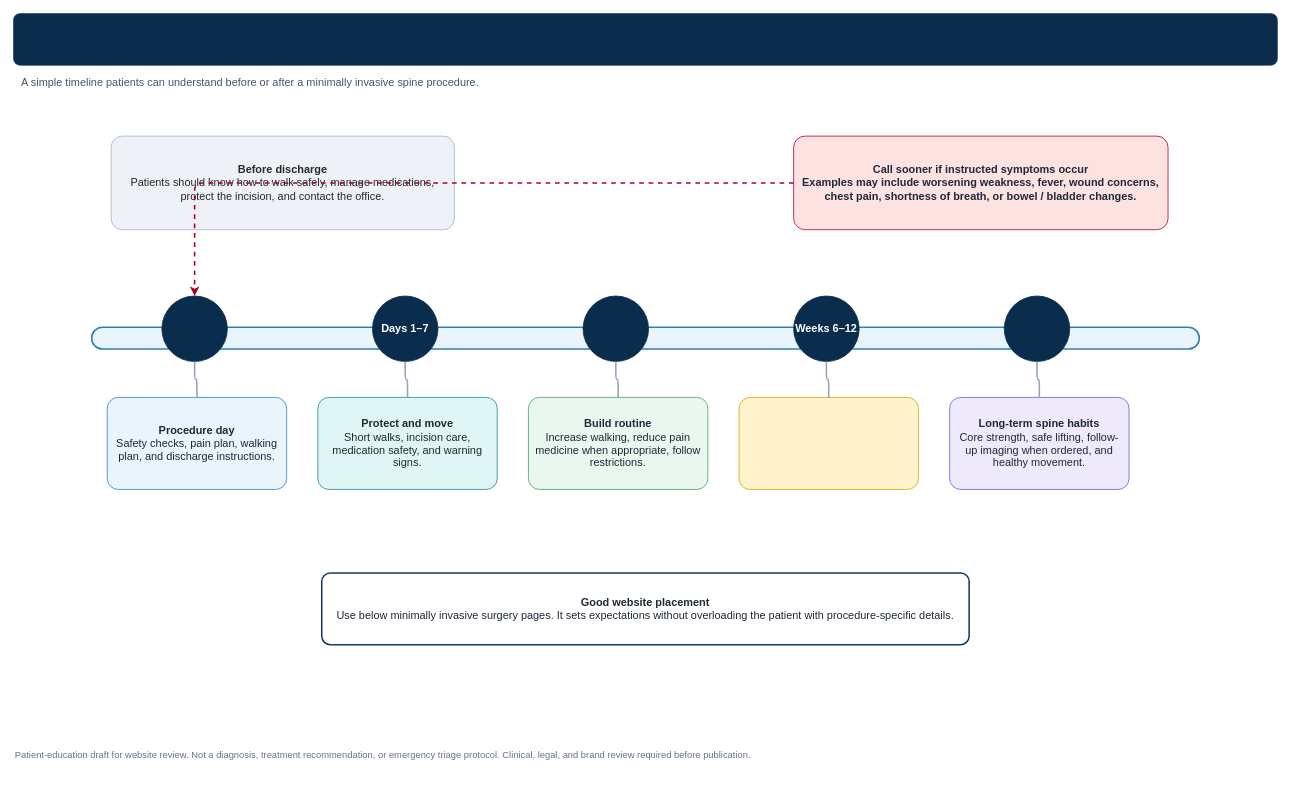
The diagram is 1291 pixels wide and 786 high, and some of its shapes have lost their labels. The box of each missing label's shape, as (x1, y1, x2, y2) in pixels:
After Spine Surgery: Recovery Milestones: (13, 13, 1277, 65)
Day 0: (161, 295, 227, 362)
Function focus Therapy, strength, posture, and return-to-activity planning.: (738, 397, 918, 489)
Ongoing: (1003, 295, 1070, 362)
Weeks 2–6: (582, 295, 649, 362)
